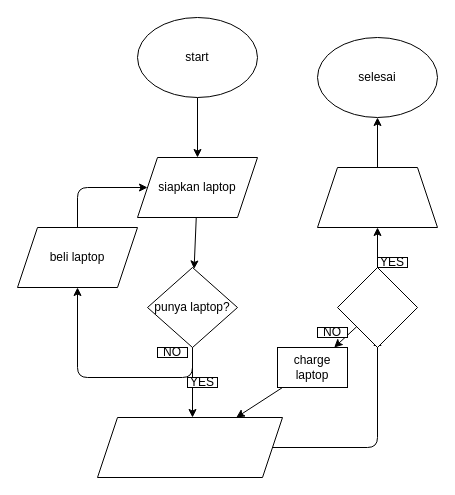
This 455x495 diagram has some shape labels left out. Each missing label, with the centre of its shape:
ada baterainya?: the point at 377,307
cari tombol power On yang biasanya berada diatas kanan keyboard laptop: the point at 189,447
tunggu hingga laptop menyala dengan sempurna: the point at 377,197
